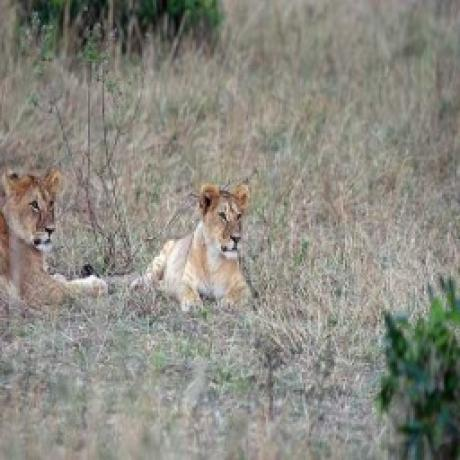Lion: (0, 166, 104, 298), (150, 180, 256, 308)
